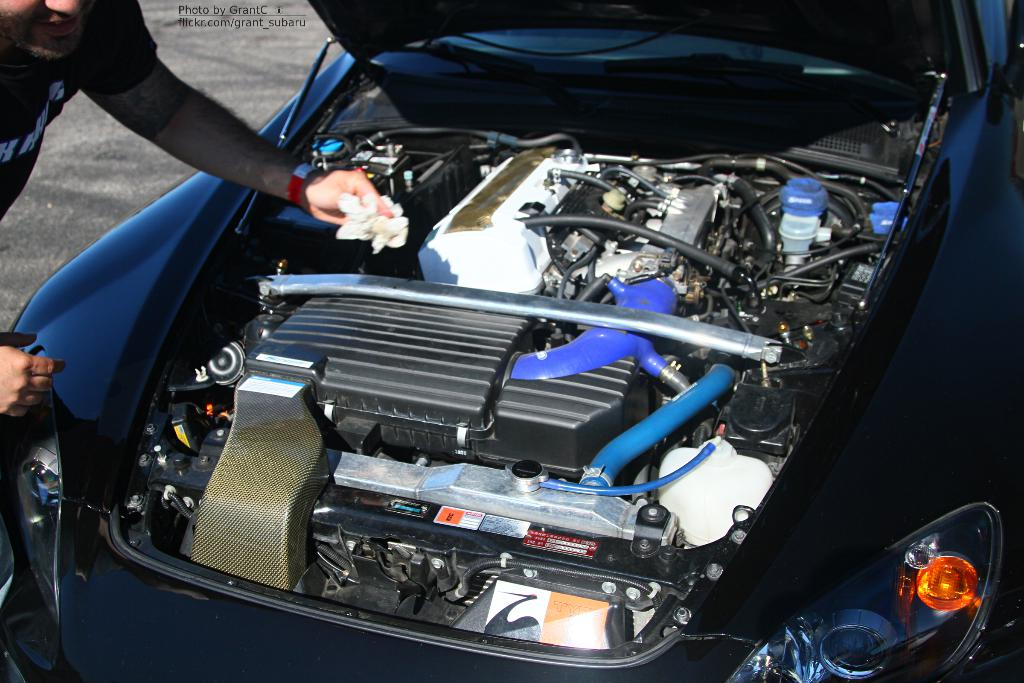Car: (48, 14, 1000, 683)
